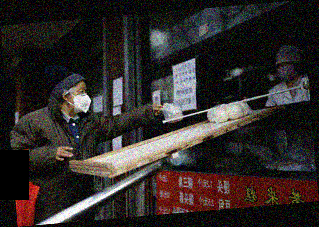with_mask: (70, 85, 92, 116), (276, 61, 297, 81)
